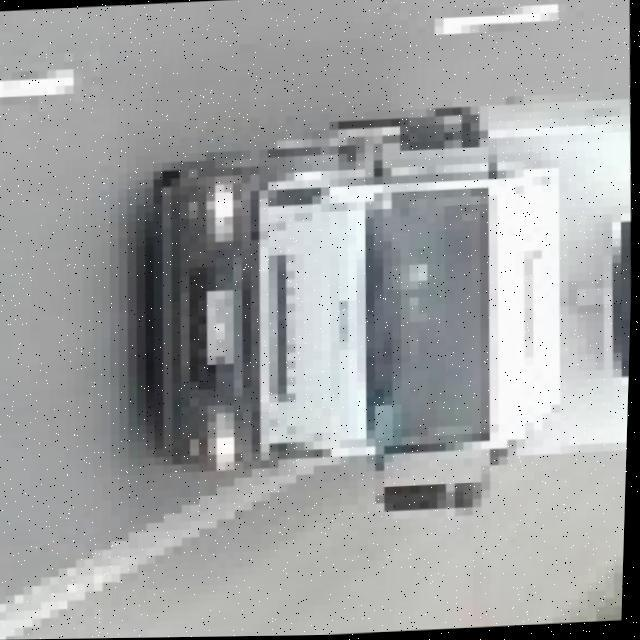truck: (142, 74, 638, 514)
